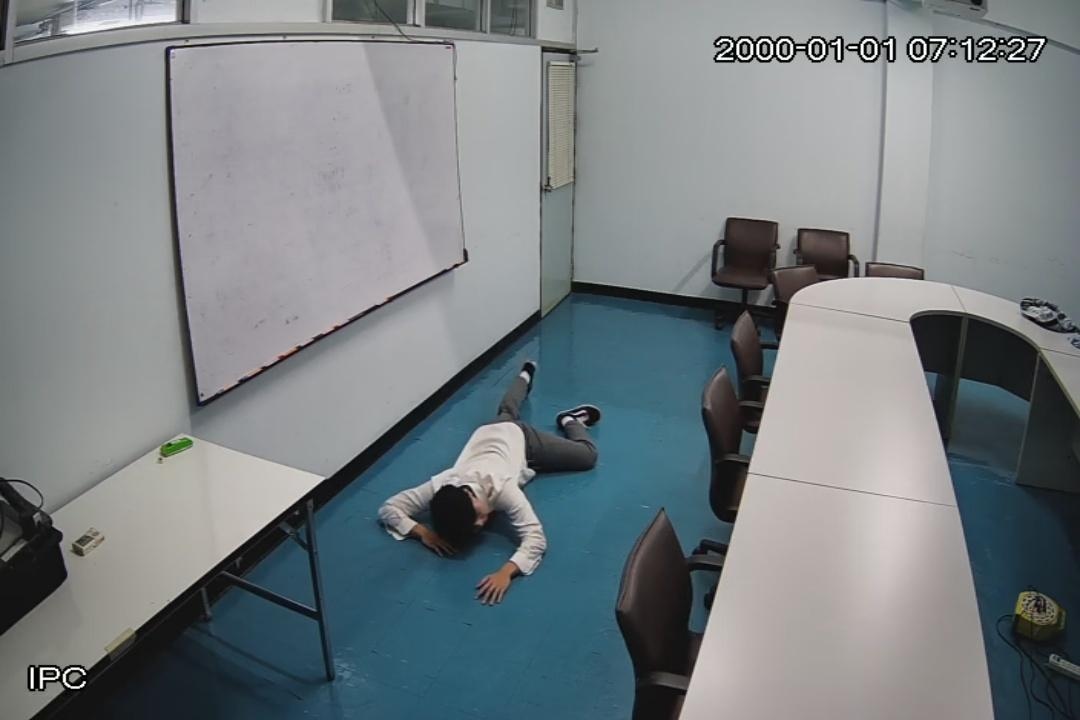fall: (374, 361, 604, 606)
